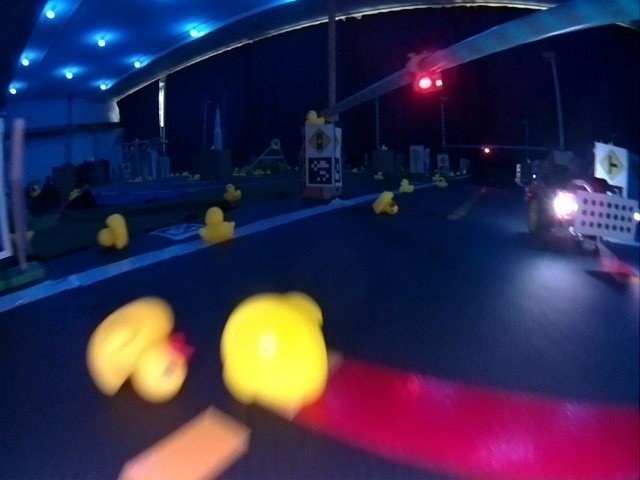Duckie: (221, 291, 328, 417), (90, 297, 192, 399), (199, 208, 234, 242), (98, 215, 128, 249), (372, 192, 398, 215), (223, 185, 241, 201), (306, 111, 324, 124), (399, 179, 414, 190), (436, 177, 446, 186)
Duckiebot: (525, 175, 638, 244)
Intersection sign: (598, 147, 624, 181)
QR code: (151, 222, 202, 239), (307, 156, 333, 185)
Signal sign: (308, 127, 332, 154)
Traffic light: (408, 54, 442, 92)
